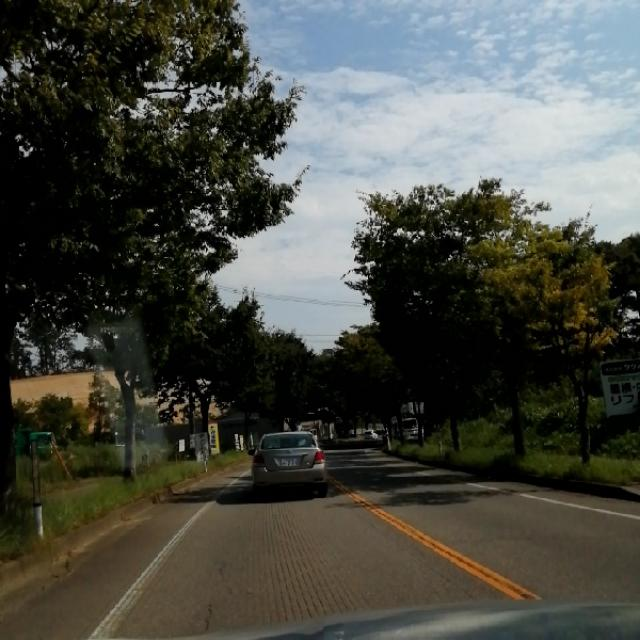pothole: (201, 556, 240, 636)
